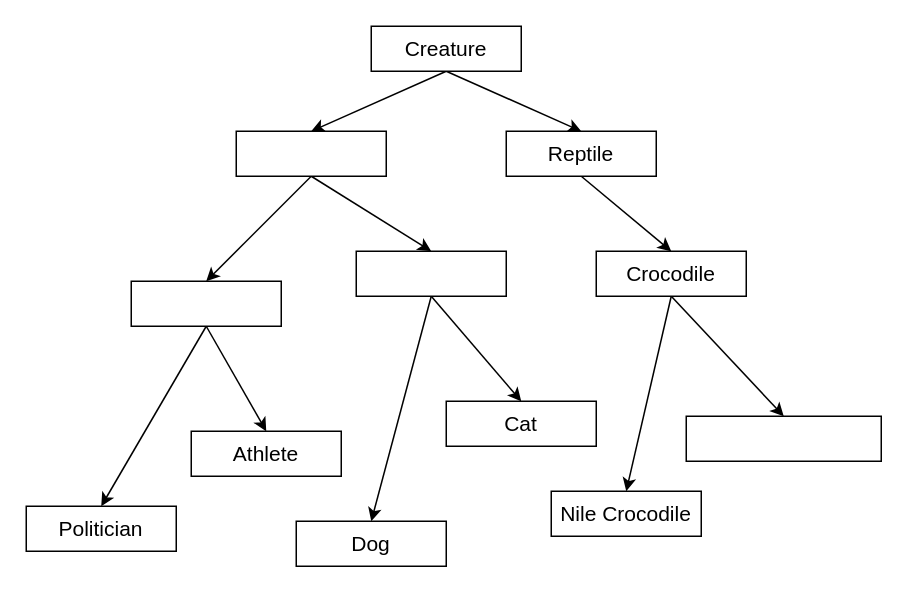
Some shapes in this 908 by 593 pixel diagram are drawn without their labels. The shapes that lost their labels are listed below. From the top down, each one's centre as x and y in pixels, then its label:
(310,153): Mammal
(430,273): Pet
(205,303): Person
(783,438): Saltwater Crocodile
